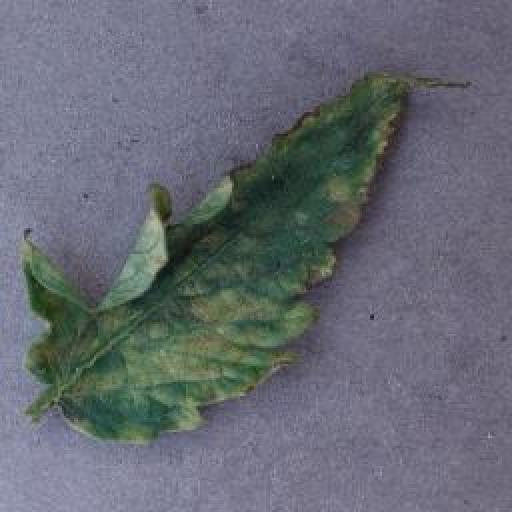Leaf Mold: (20, 65, 414, 448)
